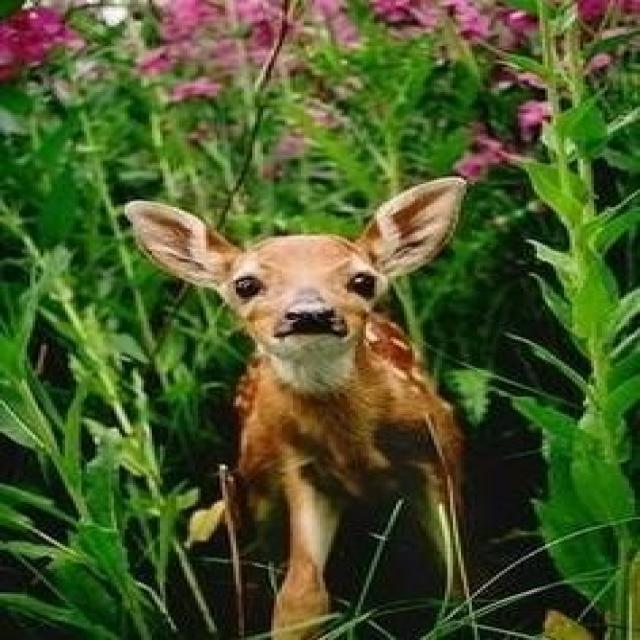not_pig: (123, 174, 476, 638)
